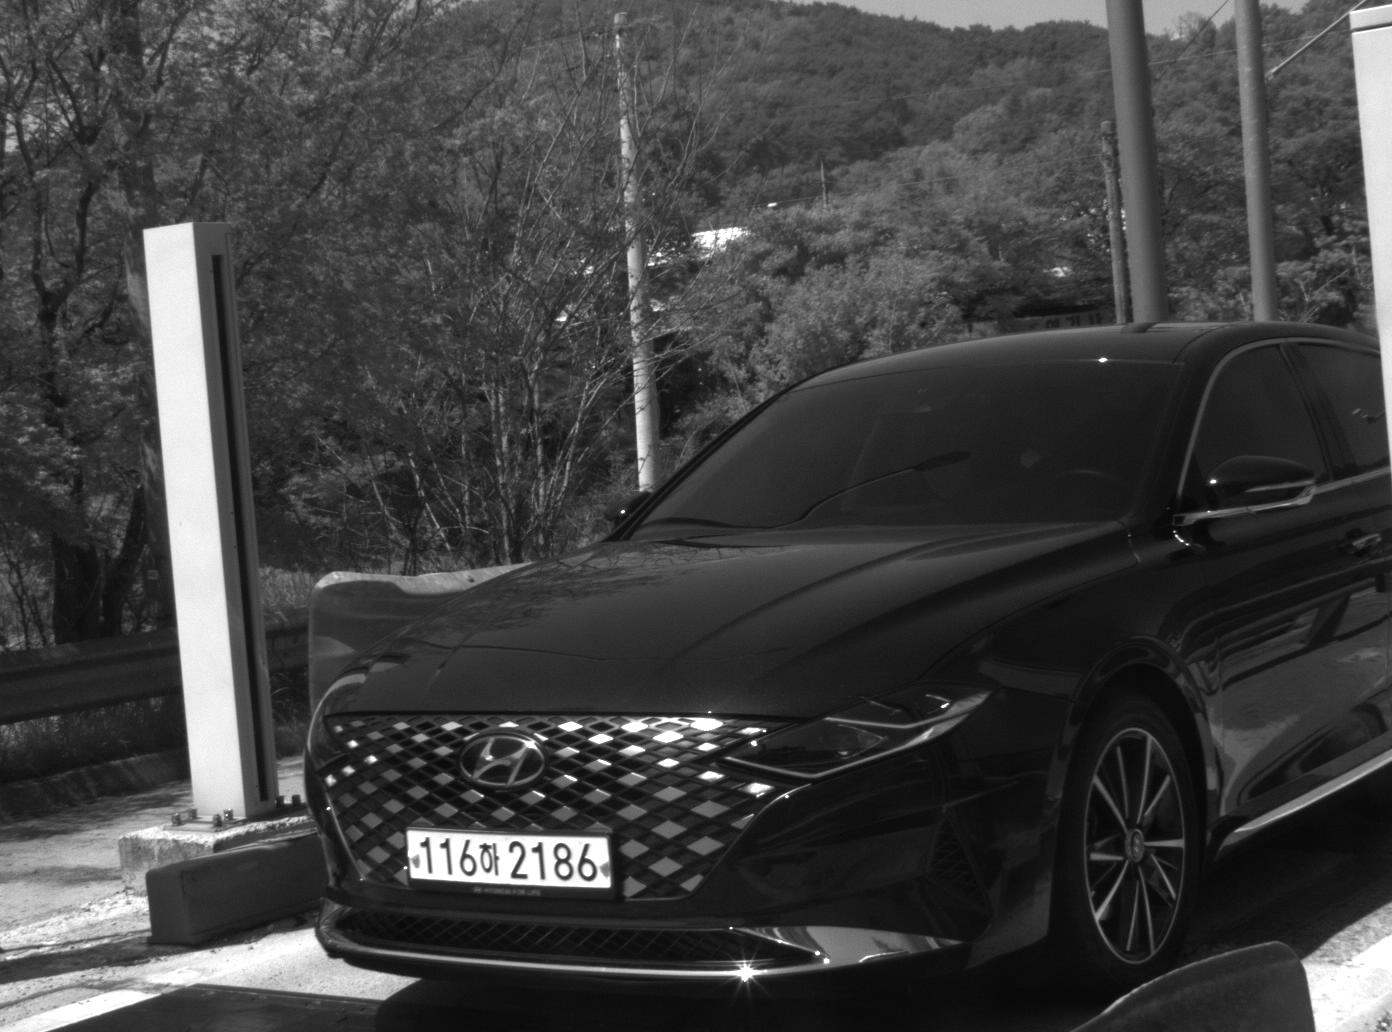car: (294, 319, 1392, 995)
plate: (403, 829, 612, 887)
